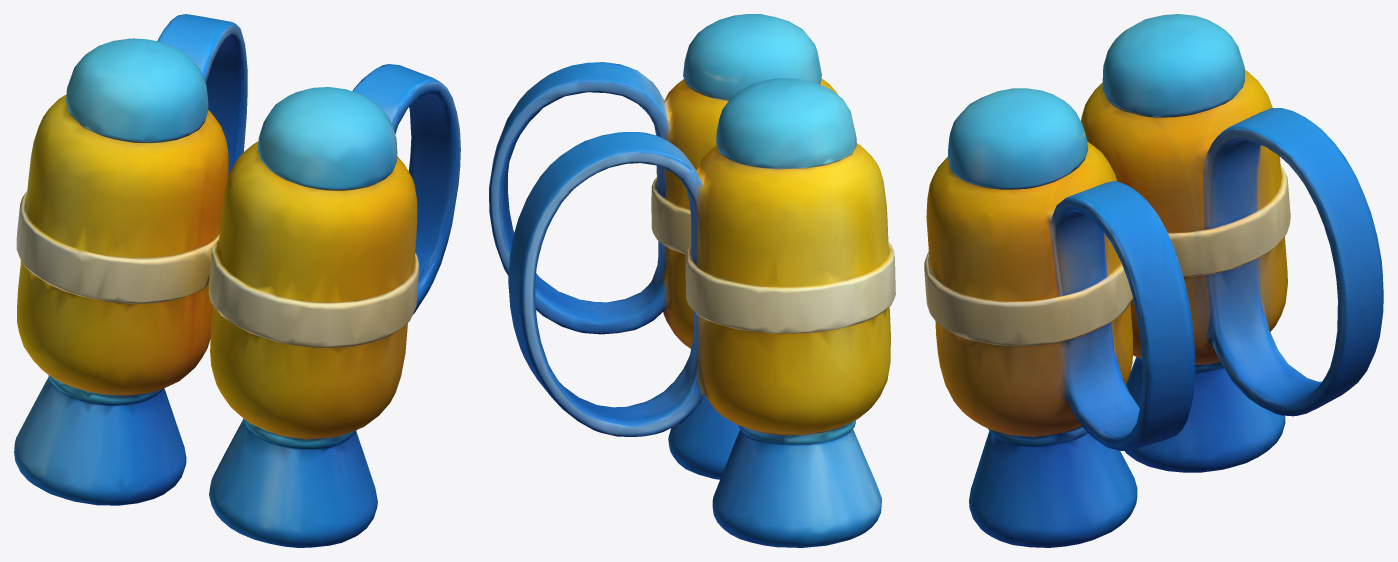
The model's file is cs-jetpack.glb.
3 renders of one model, left to right at view 1: azimuth 30°, elevation 25°; view 2: azimuth 150°, elevation 25°; view 3: azimuth 270°, elevation 25°, orthographic.
Visible parts, largest first — view 1: tripo_node_c5fa461f-cf41-4325-bf48-e5db17fd40fa; view 2: tripo_node_c5fa461f-cf41-4325-bf48-e5db17fd40fa; view 3: tripo_node_c5fa461f-cf41-4325-bf48-e5db17fd40fa.
Part boxes in pixels (x1,y1,x2,y2): tripo_node_c5fa461f-cf41-4325-bf48-e5db17fd40fa: [14, 14, 460, 547]; tripo_node_c5fa461f-cf41-4325-bf48-e5db17fd40fa: [489, 14, 895, 547]; tripo_node_c5fa461f-cf41-4325-bf48-e5db17fd40fa: [924, 14, 1383, 547].
Bounding box in the file's own units: 0.9545 × 1 × 0.9245.
Materials: 1 (1 with a texture image).
